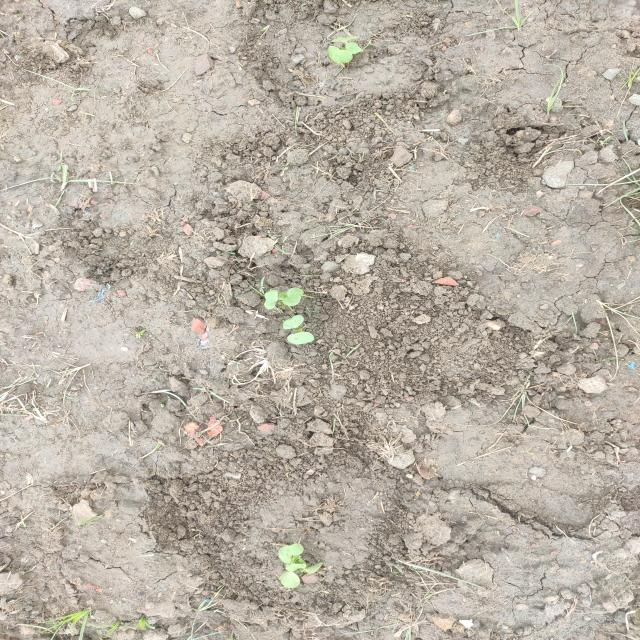seedling_s4: (328, 46, 353, 63), (283, 287, 304, 306), (278, 543, 304, 557), (279, 571, 300, 588), (287, 332, 314, 344), (283, 315, 304, 330), (299, 562, 323, 574), (264, 290, 278, 309), (345, 42, 363, 54), (331, 36, 359, 42), (285, 564, 306, 572), (292, 555, 306, 564), (278, 555, 292, 563), (278, 292, 288, 300)
